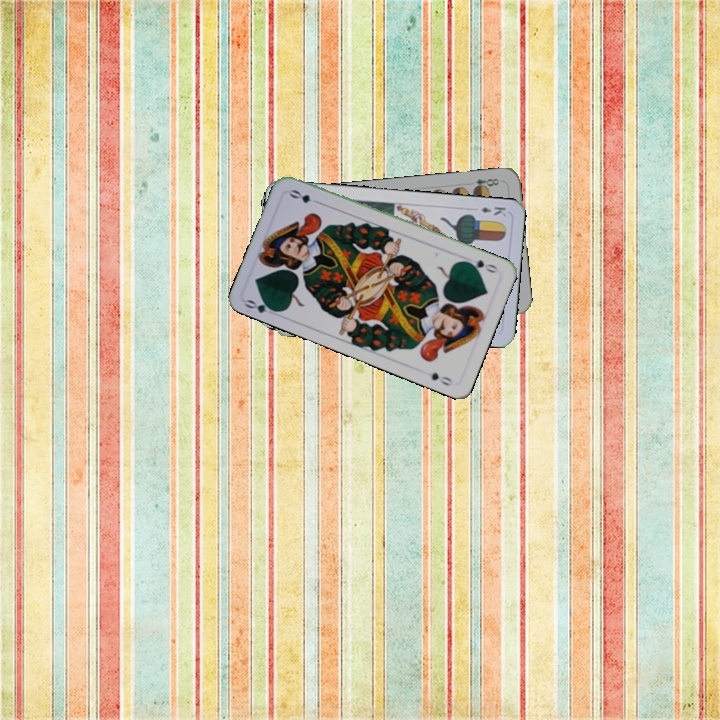E8: (464, 174, 502, 193)
EK: (477, 202, 509, 218)
GO: (241, 295, 282, 319), (461, 256, 500, 276)
